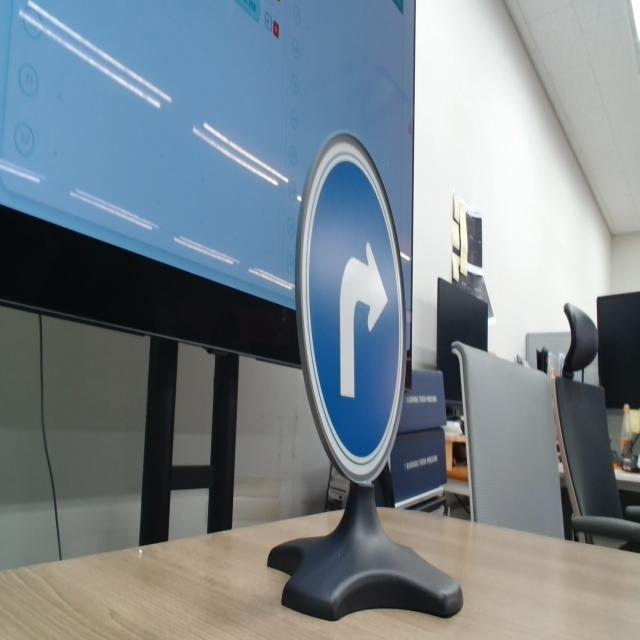right_dierection: (294, 129, 408, 490)
